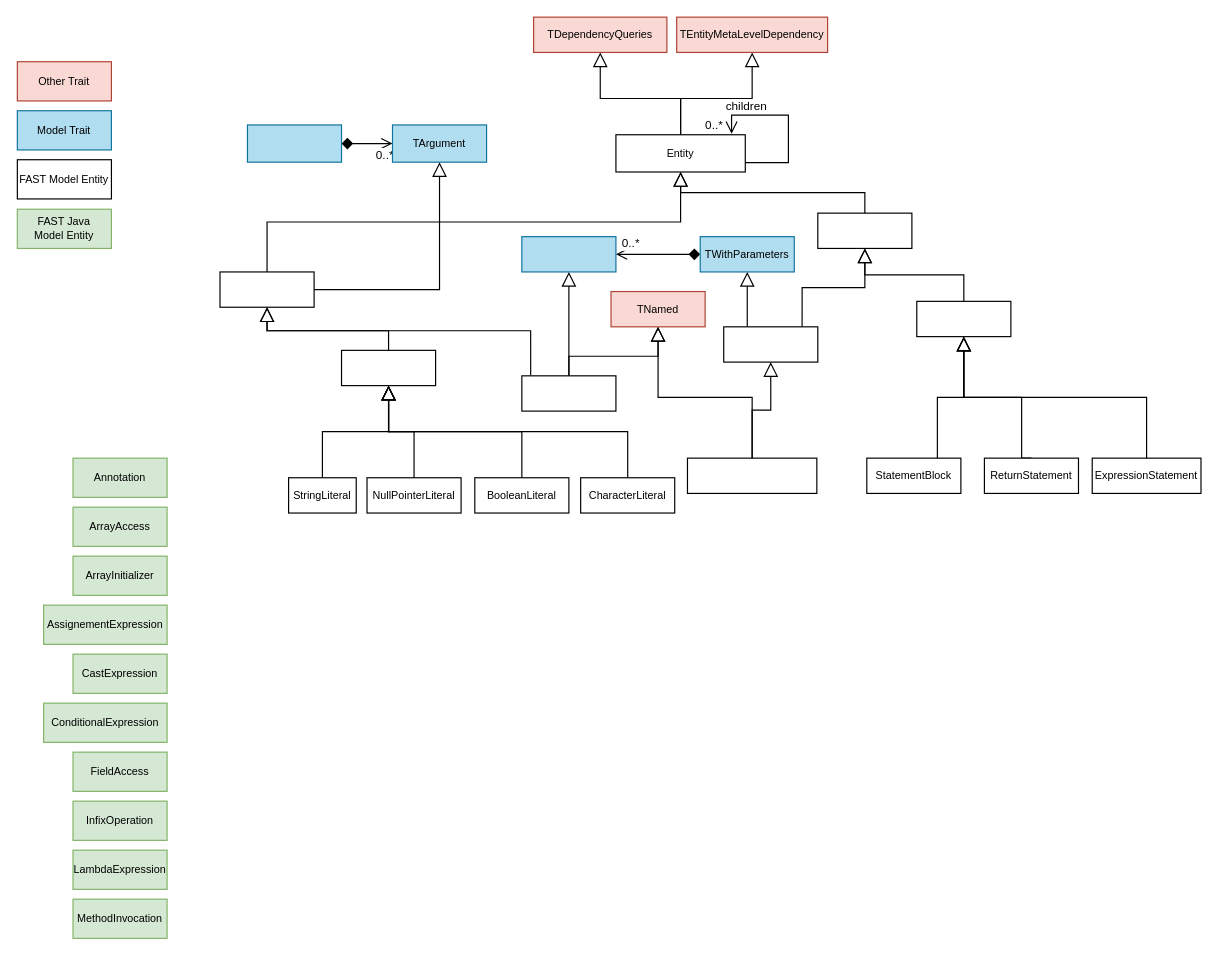
Some shapes in this 1219 by 956 pixel diagram are drawn without their labels. Here are the shapes that lost their labels. From the top down, the centre of each, then its label:
At point 294,143: "TWithArguments".
At point 864,230: "ScopableEntity".
At point 568,254: "TParameter".
At point 266,289: "Expression".
At point 963,318: "Statement".
At point 770,344: "BehaviouralEntity".
At point 388,367: "Literal".
At point 568,393: "VariableExpression".
At point 751,475: "NamedBehaviouralEntity".
